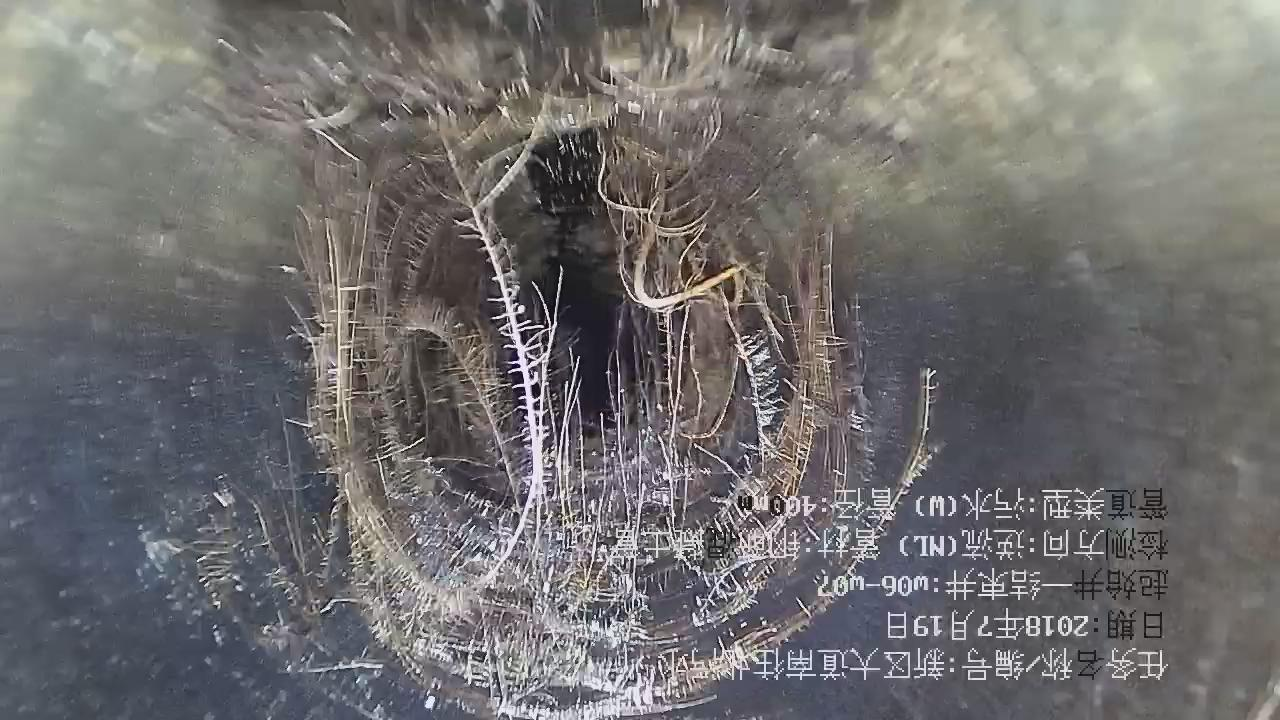SG: (220, 1, 936, 720)
